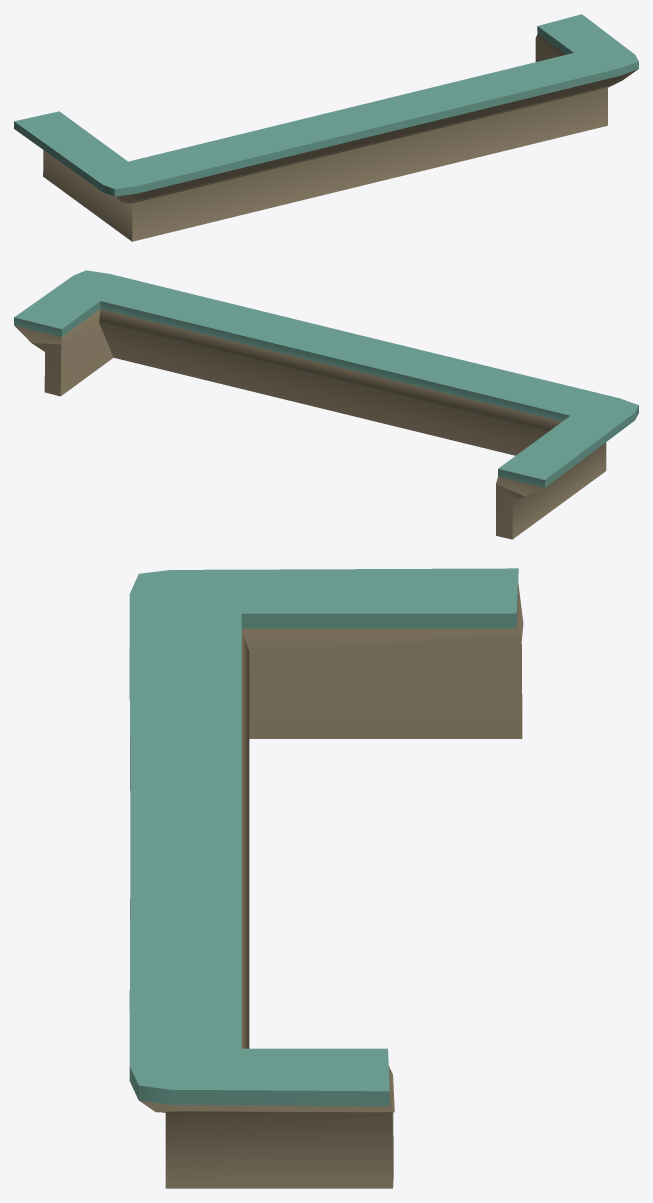
File: Cafe_Bar_UV_Fixed.fbx
3 views of the same model, one above another, from view 1: azimuth 30°, elevation 25°; view 2: azimuth 150°, elevation 25°; view 3: azimuth 270°, elevation 25° (orthographic). The views are drawn at different scales.
Parts seen in each view (by area): view 1: pCube1; view 2: pCube1; view 3: pCube1.
Part boxes in pixels (<box>): pCube1: <box>14,14,638,241</box>; pCube1: <box>14,270,638,539</box>; pCube1: <box>129,568,523,1188</box>.
Bounding box in the file's own units: 24.92 × 2.82 × 7.93.
